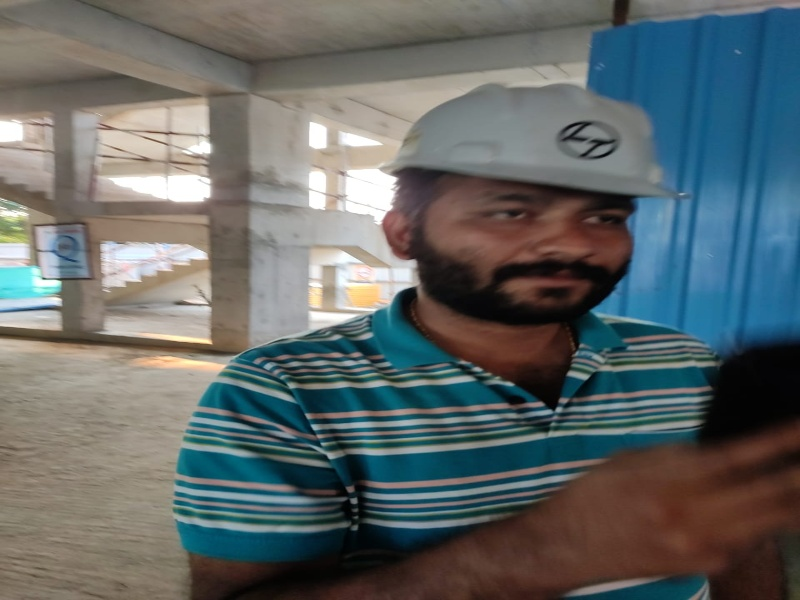Face: (371, 78, 693, 197)
